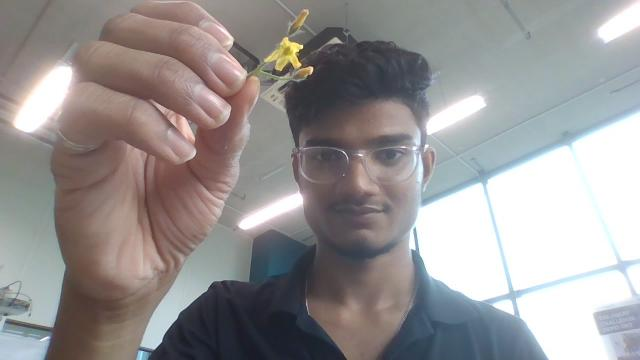Anthesis: (264, 37, 304, 73), (290, 9, 309, 32), (293, 65, 314, 80)
